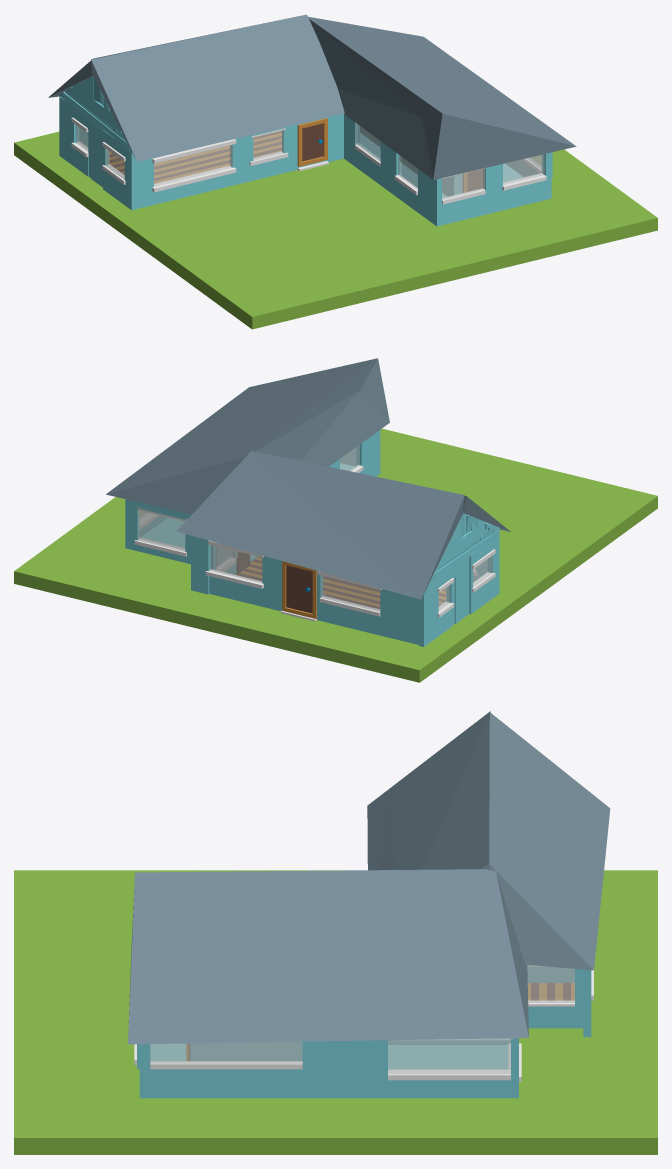
File: ranch-style-house.glb
3 views of the same model, one above another, from view 1: azimuth 30°, elevation 25°; view 2: azimuth 150°, elevation 25°; view 3: azimuth 270°, elevation 25° (orthographic). The views are drawn at different scales.
Parts seen in each view (by area): view 1: group455800617, group982256095, group1997762422, group995153862, group775642704, group851663983, group1568575367, group1462667522, group1303973482, group1213367141, group205097602, group1396928980 (+17 smaller); view 2: group455800617, group684333695, group1997762422, group1816247588, group943775245, group1371299130, group199916662, group452121661, group231253133, group371023313, group1076005063, group1718786609 (+8 smaller); view 3: group455800617, group1997762422, group684333695, group982256095, group1388401098, group1564933015, group1396928980, group1812778656, group797277246, group1842239760, group1096516795, group2074640870 (+6 smaller).
Boxes of the visible parts, x1,y1,x2,y2 form: group455800617: [14, 131, 657, 329]; group982256095: [91, 14, 344, 161]; group1997762422: [308, 17, 576, 179]; group995153862: [435, 182, 551, 226]; group775642704: [154, 145, 232, 186]; group851663983: [355, 149, 434, 224]; group1568575367: [136, 173, 234, 208]; group1462667522: [297, 118, 327, 166]; group1303973482: [230, 136, 253, 183]; group1213367141: [442, 168, 484, 199]; group205097602: [503, 154, 544, 184]; group1396928980: [360, 133, 522, 197]; group455800617: [14, 428, 657, 682]; group684333695: [176, 451, 464, 599]; group1997762422: [106, 358, 389, 514]; group1816247588: [380, 589, 418, 644]; group943775245: [137, 510, 185, 551]; group1371299130: [209, 545, 262, 582]; group199916662: [320, 575, 380, 611]; group452121661: [317, 598, 380, 635]; group231253133: [286, 565, 312, 613]; group371023313: [191, 535, 211, 594]; group1076005063: [262, 556, 281, 610]; group1718786609: [209, 576, 262, 606]; group455800617: [14, 870, 657, 1154]; group1997762422: [128, 869, 528, 1044]; group684333695: [489, 712, 610, 970]; group982256095: [367, 711, 490, 870]; group1388401098: [150, 1069, 339, 1093]; group1564933015: [388, 1039, 510, 1073]; group1396928980: [150, 1044, 514, 1098]; group1812778656: [150, 1041, 302, 1066]; group797277246: [302, 1040, 387, 1083]; group1842239760: [337, 1079, 518, 1098]; group1096516795: [190, 1042, 302, 1060]; group2074640870: [527, 966, 574, 1002].
Bounding box in the file's own units: 2.37 × 0.7703 × 2.41.
